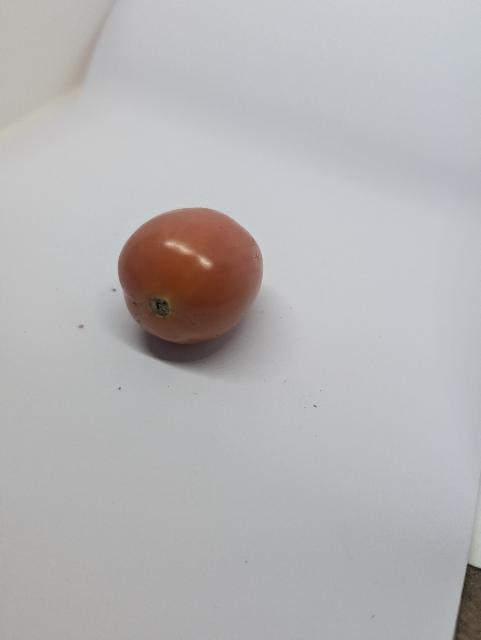red: (117, 206, 266, 346)
